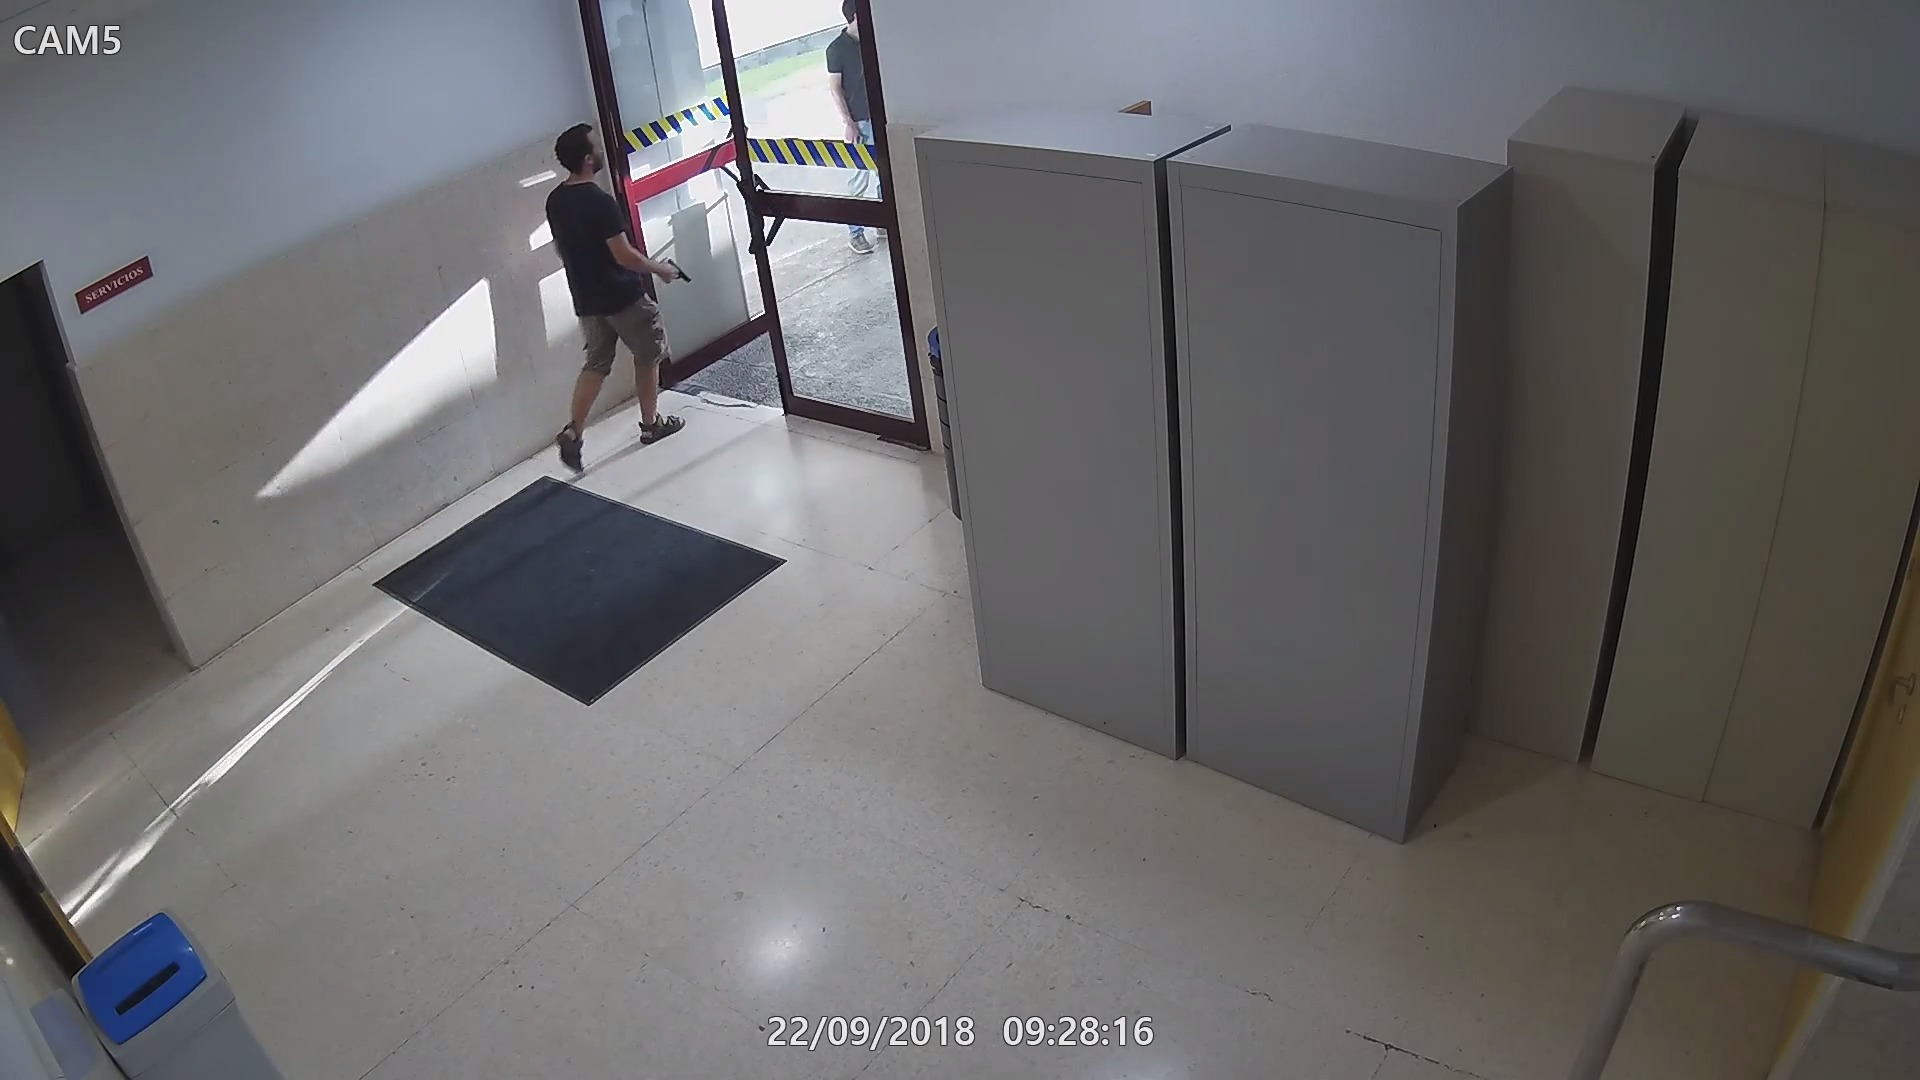Handgun: (651, 255, 694, 285)
